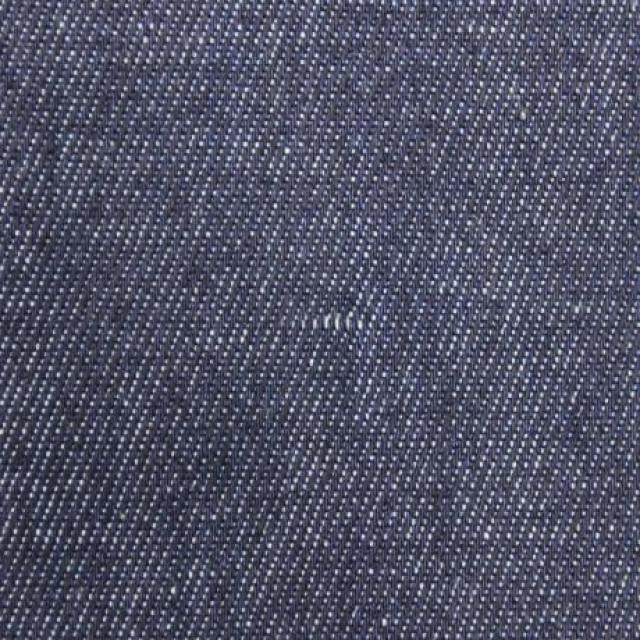Thread_other: (260, 284, 394, 362)
